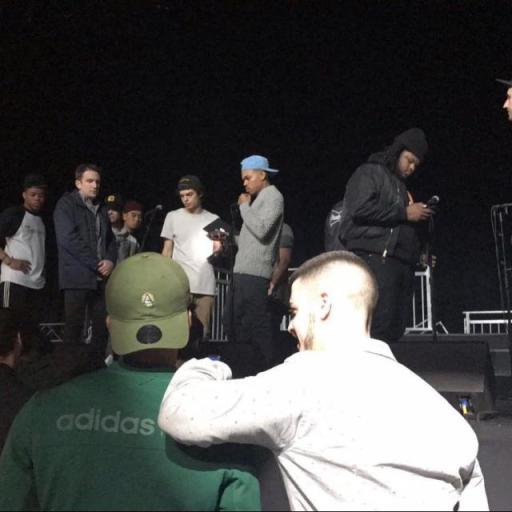Adidas: (53, 405, 159, 437)
